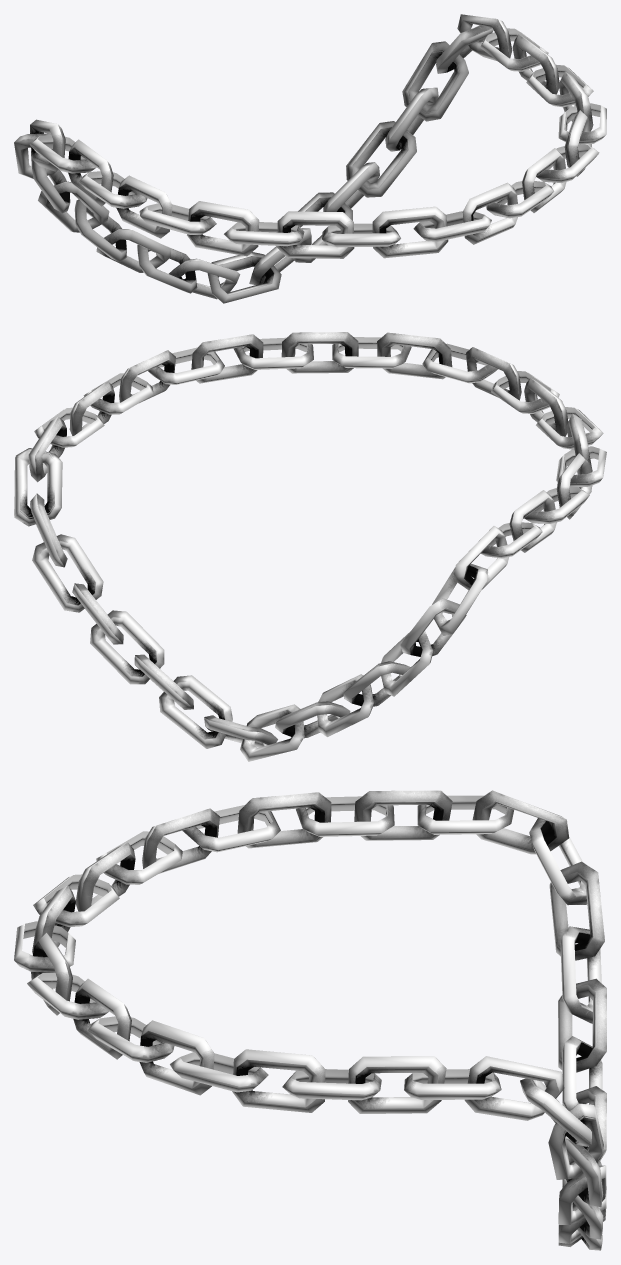
3 views of the same model, one above another, from view 1: azimuth 30°, elevation 25°; view 2: azimuth 150°, elevation 25°; view 3: azimuth 270°, elevation 25° (orthographic). The views are drawn at different scales.
Visible parts, largest first — view 1: geometry_0; view 2: geometry_0; view 3: geometry_0.
Part boxes in pixels (x1,y1,x2,y2): geometry_0: [14, 14, 606, 303]; geometry_0: [14, 332, 606, 761]; geometry_0: [14, 790, 606, 1250].
Bounding box in the file's own units: 1.46 × 0.7288 × 1.24.
1 material, 1 textured.
